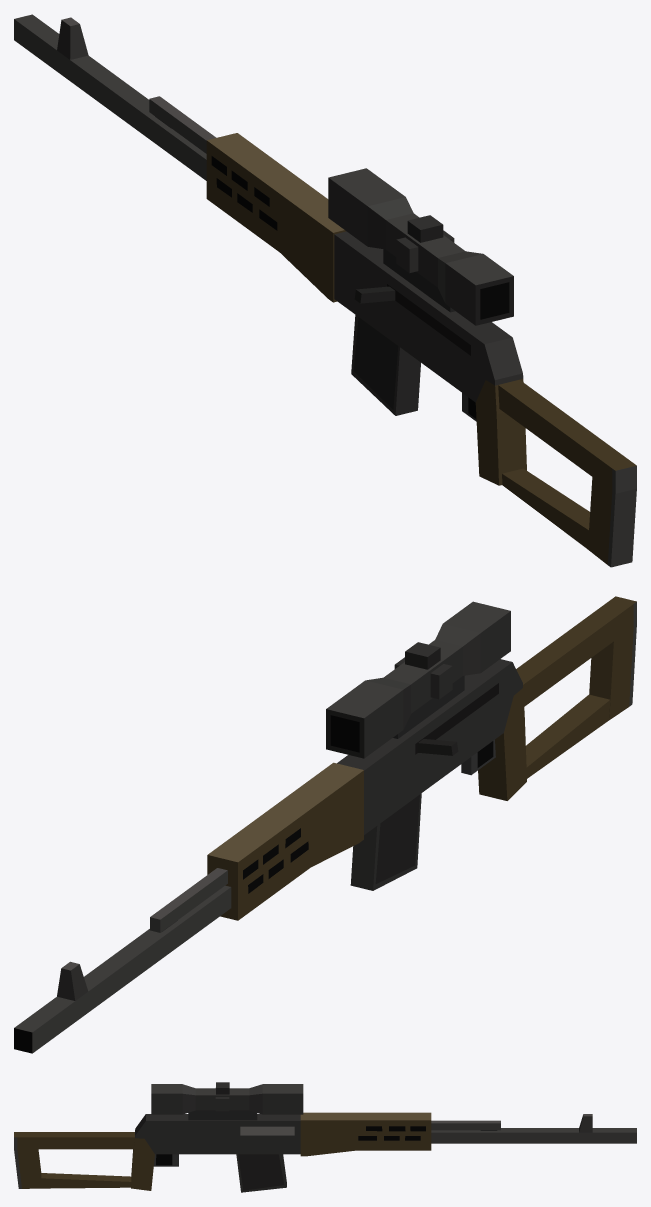
The model's file is Wep_RifleSVD.fbx.
The picture shows the model from 3 angles, top to bottom: view 1: azimuth 30°, elevation 25°; view 2: azimuth 150°, elevation 25°; view 3: azimuth 270°, elevation 25°; orthographic projection. The views are drawn at different scales.
Parts seen in each view (by area): view 1: Wep_RifleSVD; view 2: Wep_RifleSVD; view 3: Wep_RifleSVD.
Part boxes in pixels (left/top/right/bottom): Wep_RifleSVD: left=14, top=14, right=636, bottom=567; Wep_RifleSVD: left=14, top=596, right=636, bottom=1053; Wep_RifleSVD: left=14, top=1082, right=636, bottom=1192.
Size of the model in its own units: 49.16 by 132 by 711.
